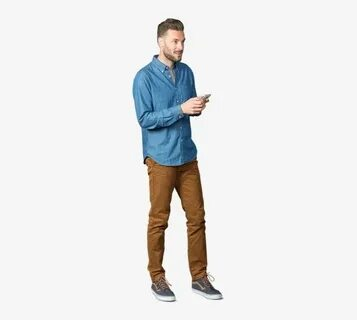awake: (131, 17, 224, 302)
